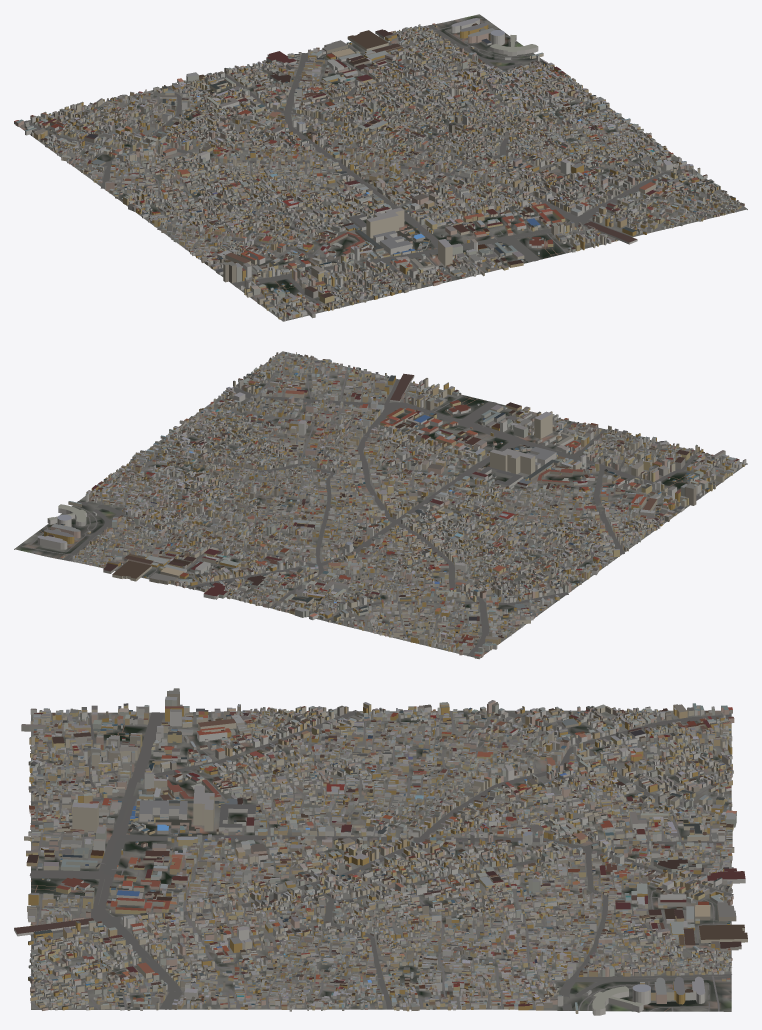
3 views of the same model, one above another, from view 1: azimuth 30°, elevation 25°; view 2: azimuth 150°, elevation 25°; view 3: azimuth 270°, elevation 25° (orthographic). The views are drawn at different scales.
Visible parts, largest first — view 1: buildings, ground, roads; view 2: buildings, ground, roads; view 3: buildings, ground, roads.
Part boxes in pixels (x1,y1,x2,y2): buildings: (14,18,744,321); ground: (19,14,747,321); roads: (24,17,744,321); buildings: (37,352,746,659); ground: (14,351,747,657); roads: (19,353,747,656); buildings: (14,688,747,1015); ground: (31,710,731,1011); roads: (29,710,733,1011).
Size of the model in its own units: 1430 by 62.73 by 1467.
